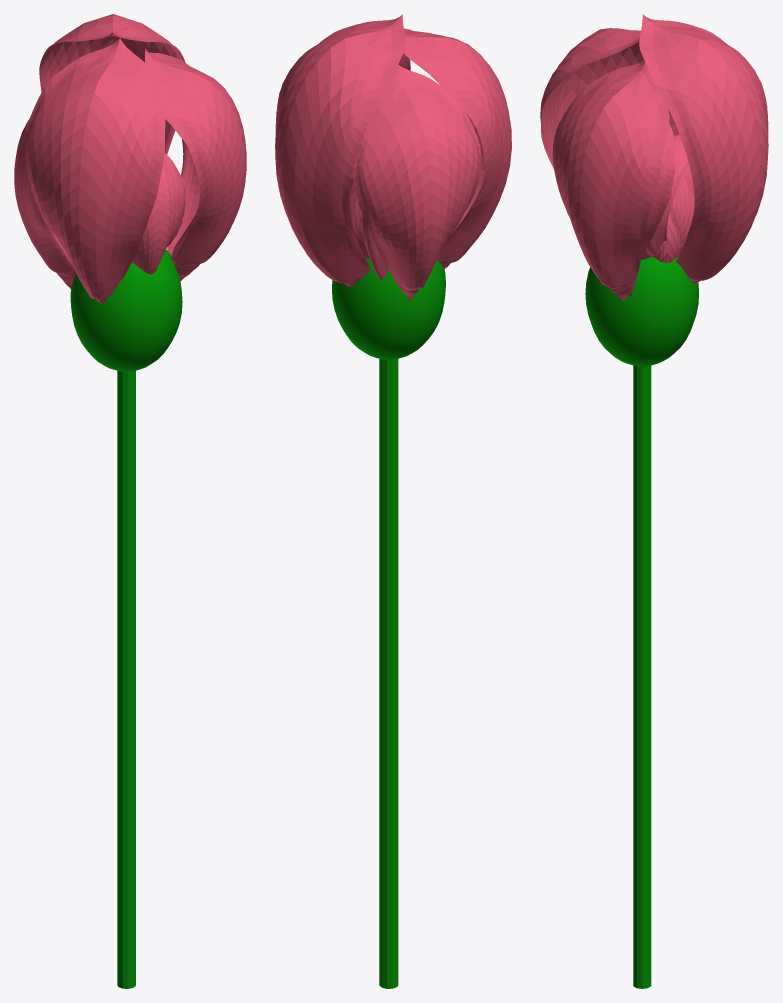
The model's file is Lotus003.fbx.
3 renders of one model, left to right at view 1: azimuth 30°, elevation 25°; view 2: azimuth 150°, elevation 25°; view 3: azimuth 270°, elevation 25°, orthographic.
Visible parts, largest first — view 1: nurbsToPoly11, pCylinder1, nurbsToPoly24, pSphere4, nurbsToPoly10, nurbsToPoly8, nurbsToPoly12, nurbsToPoly9; view 2: nurbsToPoly10, nurbsToPoly12, pCylinder1, nurbsToPoly11, pSphere4, nurbsToPoly17, nurbsToPoly23; view 3: nurbsToPoly10, nurbsToPoly24, pCylinder1, pSphere4, nurbsToPoly11, nurbsToPoly9, nurbsToPoly22, nurbsToPoly17, nurbsToPoly15.
Boxes of the visible parts, bbox=[...] form: nurbsToPoly11: bbox=[24, 38, 165, 303]; pCylinder1: bbox=[117, 370, 135, 988]; nurbsToPoly24: bbox=[145, 48, 246, 281]; pSphere4: bbox=[70, 249, 182, 371]; nurbsToPoly10: bbox=[39, 14, 185, 154]; nurbsToPoly8: bbox=[131, 153, 185, 274]; nurbsToPoly12: bbox=[14, 120, 76, 288]; nurbsToPoly9: bbox=[165, 110, 199, 263]; nurbsToPoly10: bbox=[275, 14, 405, 286]; nurbsToPoly12: bbox=[352, 64, 480, 301]; pCylinder1: bbox=[379, 359, 398, 988]; nurbsToPoly11: bbox=[403, 28, 511, 269]; pSphere4: bbox=[332, 258, 445, 359]; nurbsToPoly17: bbox=[348, 176, 369, 258]; nurbsToPoly23: bbox=[361, 213, 387, 279]; nurbsToPoly10: bbox=[639, 14, 768, 283]; nurbsToPoly24: bbox=[552, 60, 669, 301]; pCylinder1: bbox=[633, 365, 651, 988]; pSphere4: bbox=[585, 257, 698, 366]; nurbsToPoly11: bbox=[540, 28, 644, 168]; nurbsToPoly9: bbox=[642, 124, 675, 254]; nurbsToPoly22: bbox=[646, 135, 689, 256]; nurbsToPoly17: bbox=[669, 173, 694, 256]; nurbsToPoly15: bbox=[645, 213, 680, 263].
Bounding box in the file's own units: 12.53 × 56.12 × 12.04.
